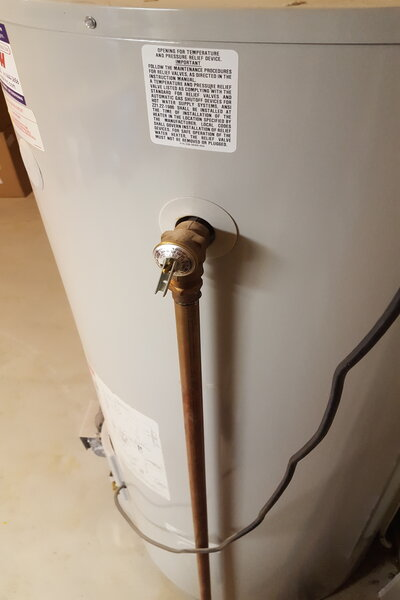valve: (148, 216, 217, 319)
